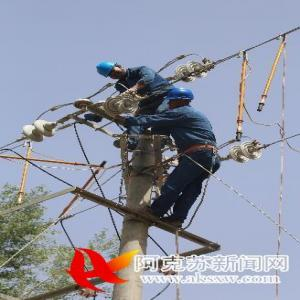blue: (165, 87, 196, 110), (96, 60, 127, 81)
